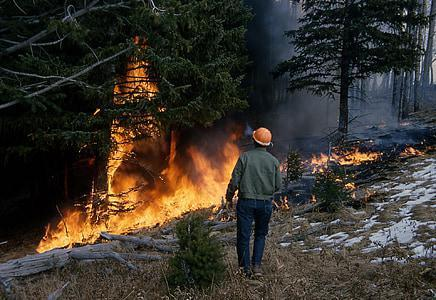fire: (104, 151, 244, 215), (110, 49, 170, 163), (43, 190, 113, 251), (311, 146, 388, 170)
